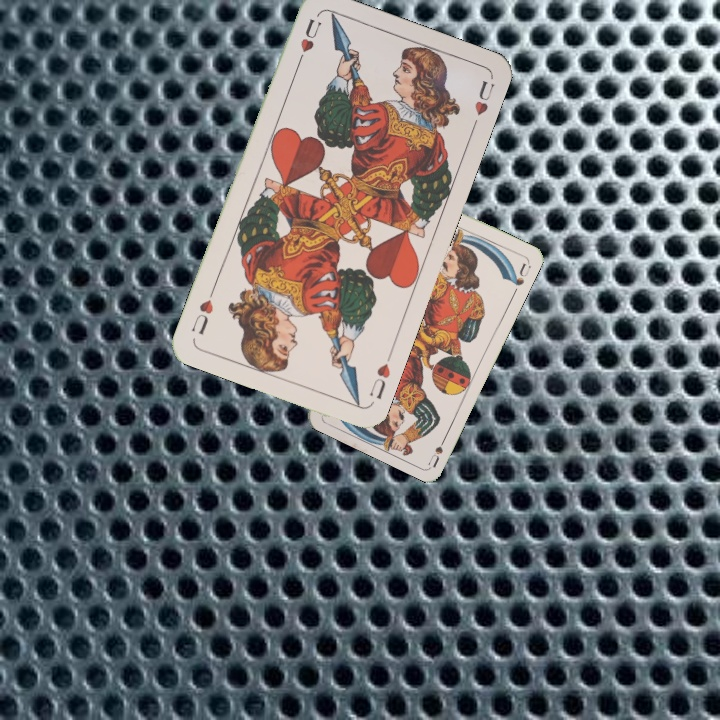HU: (292, 14, 324, 69), (365, 359, 393, 402)
SU: (425, 429, 450, 469)
